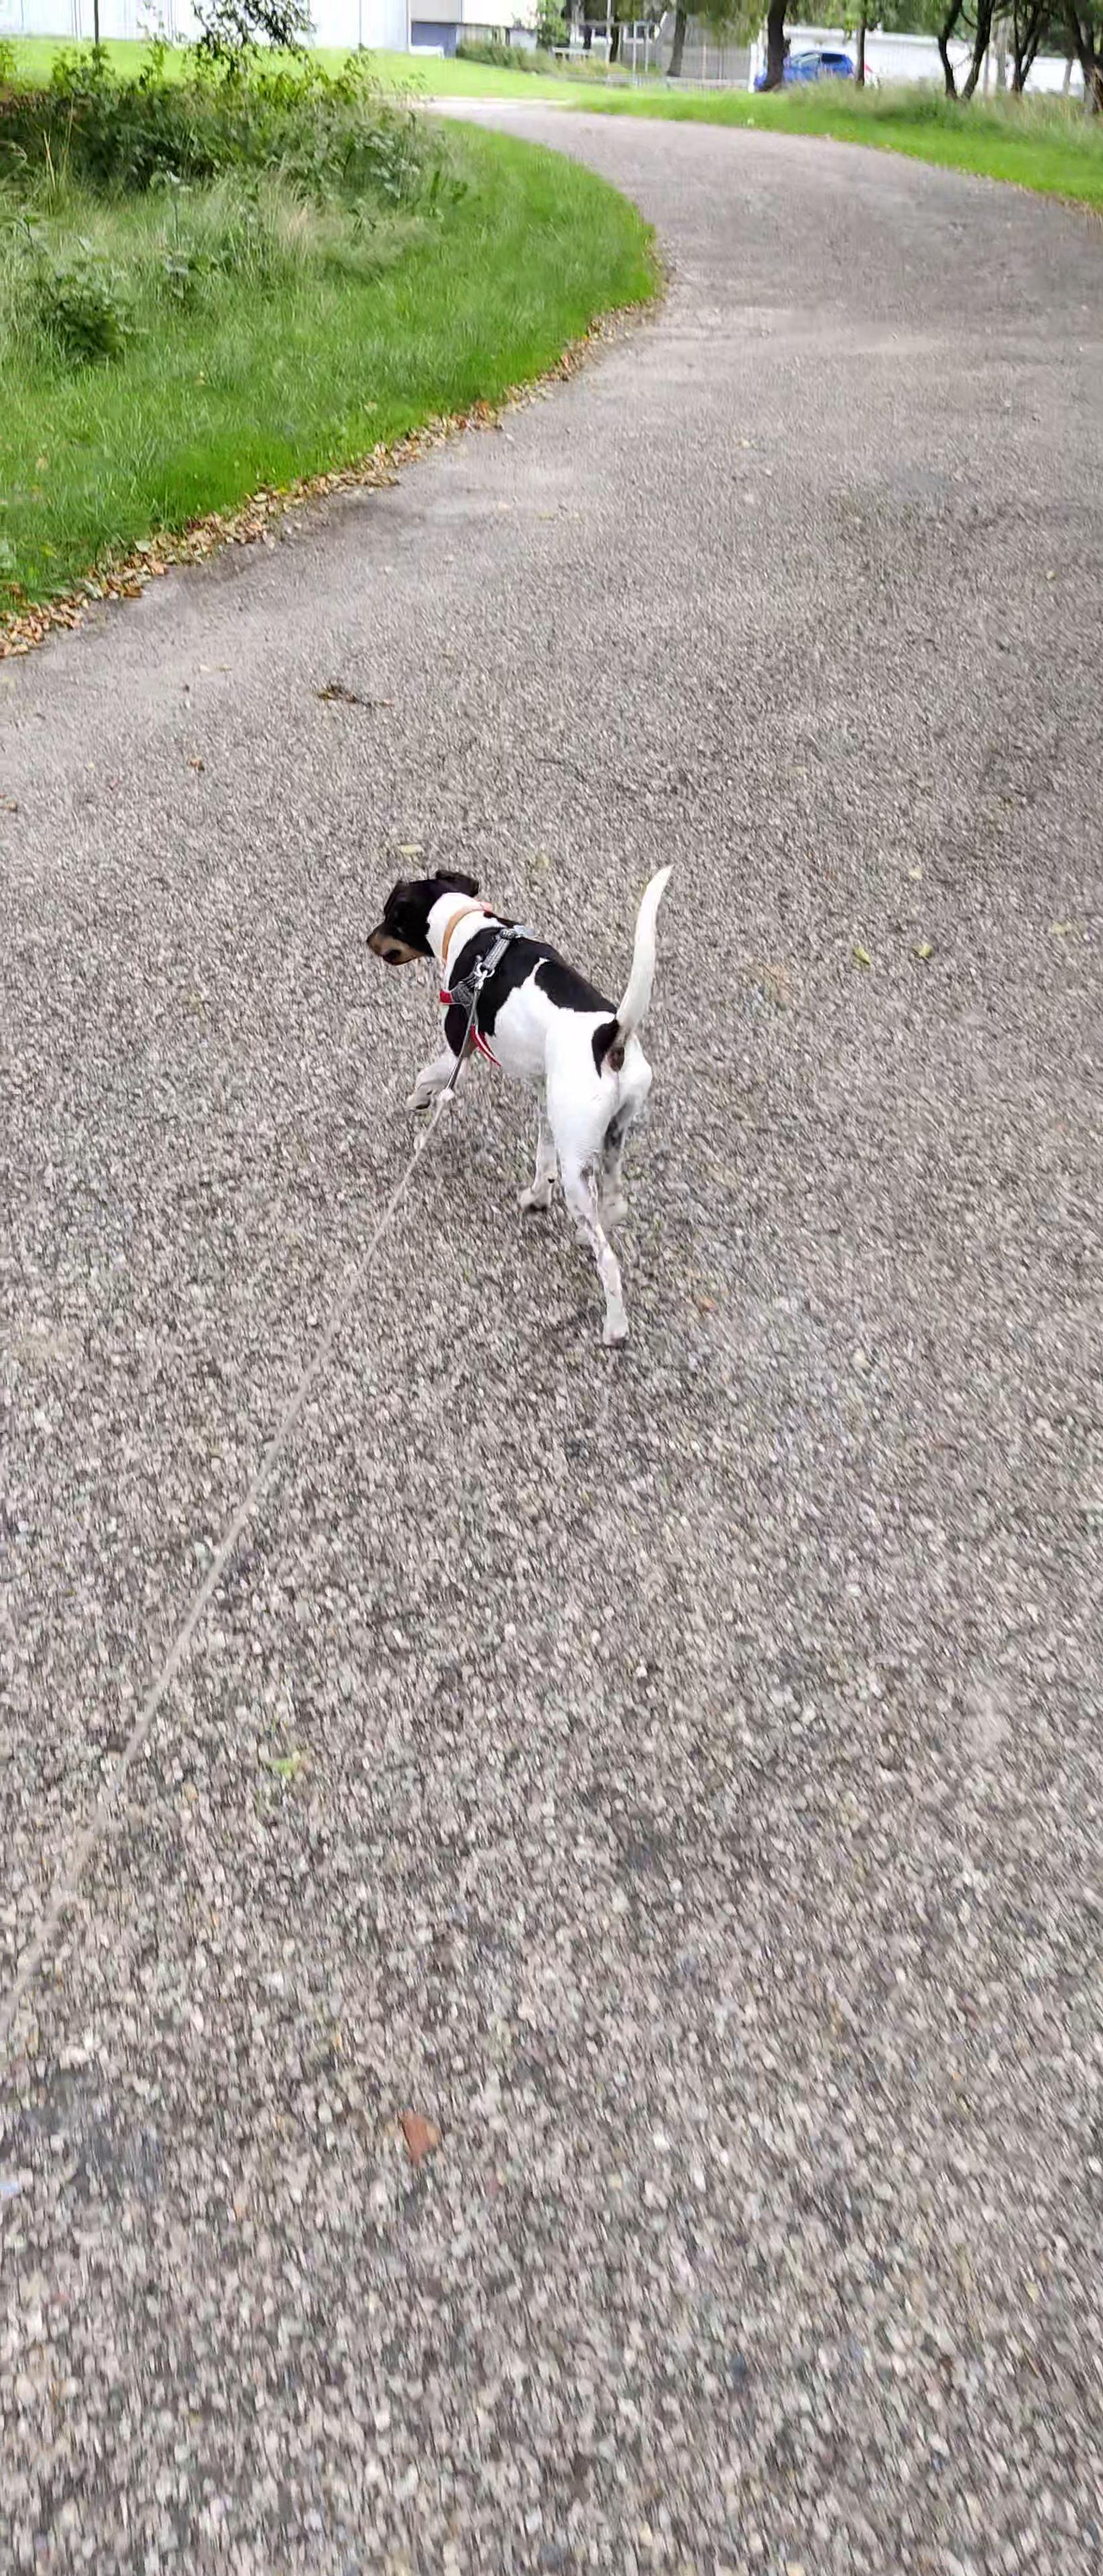Dog: (355, 858, 681, 1360)
